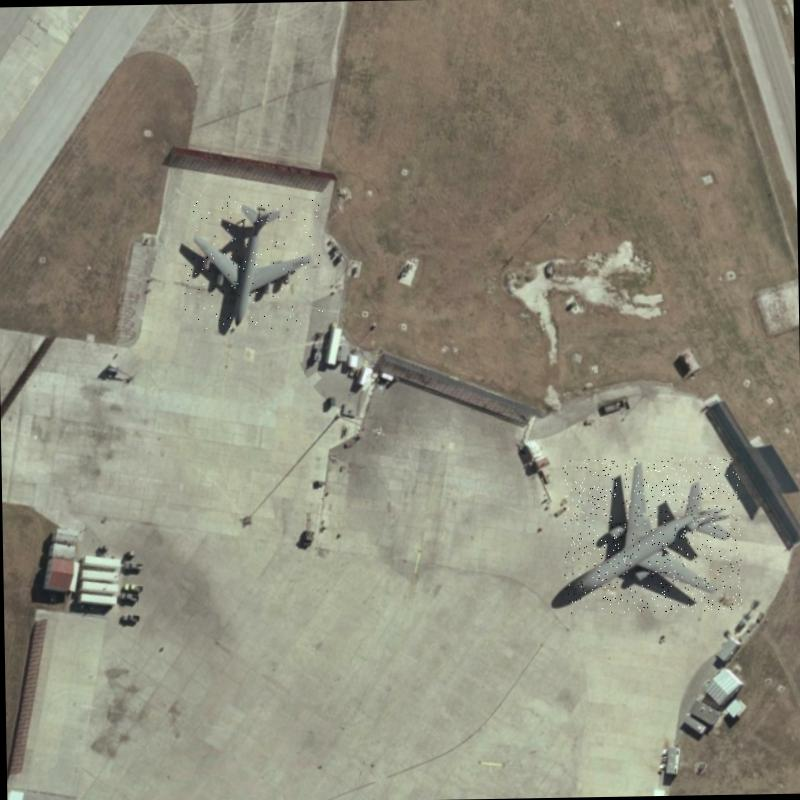A14: (182, 194, 322, 330)
A18: (562, 456, 742, 613)
